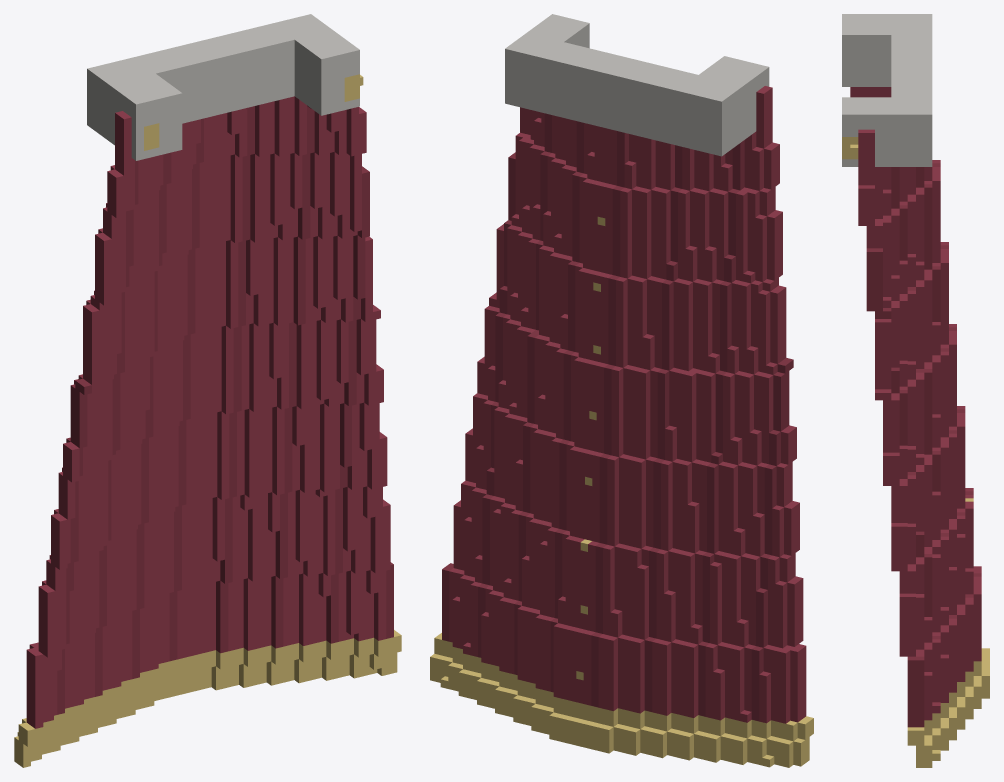
The model's file is scale_epic_cloak.glb.
3 renders of one model, left to right at view 1: azimuth 30°, elevation 25°; view 2: azimuth 150°, elevation 25°; view 3: azimuth 270°, elevation 25°, orthographic. The views are drawn at different scales.
Visible parts, largest first — view 1: scale_epic_cloak; view 2: scale_epic_cloak; view 3: scale_epic_cloak.
Part boxes in pixels (x1,y1,x2,y2): scale_epic_cloak: [14, 14, 401, 767]; scale_epic_cloak: [430, 14, 813, 767]; scale_epic_cloak: [842, 14, 989, 767].
Bounding box in the file's own units: 0.588 × 0.996 × 0.216.
